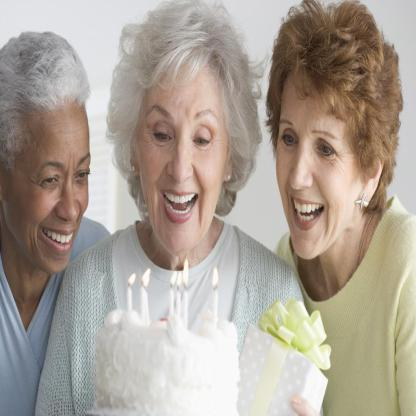face: (137, 53, 224, 257), (277, 71, 358, 261), (16, 107, 92, 275)
